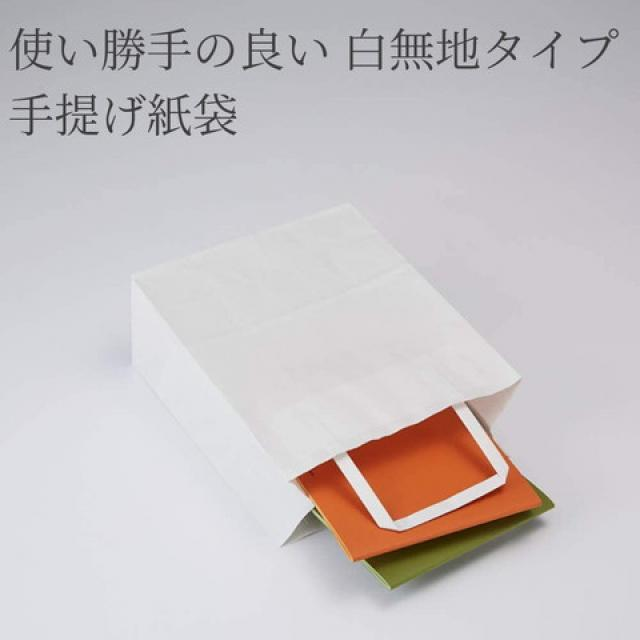paper bag: (130, 200, 520, 557)
